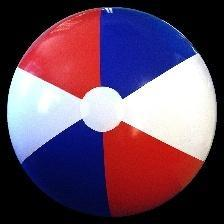Sports-Ball: (5, 5, 219, 224)
